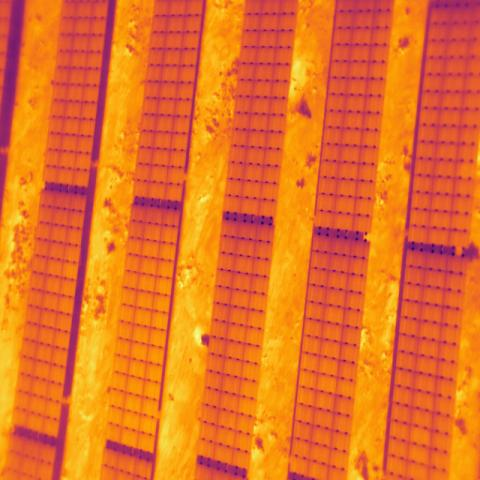fault: (455, 162, 475, 180)
